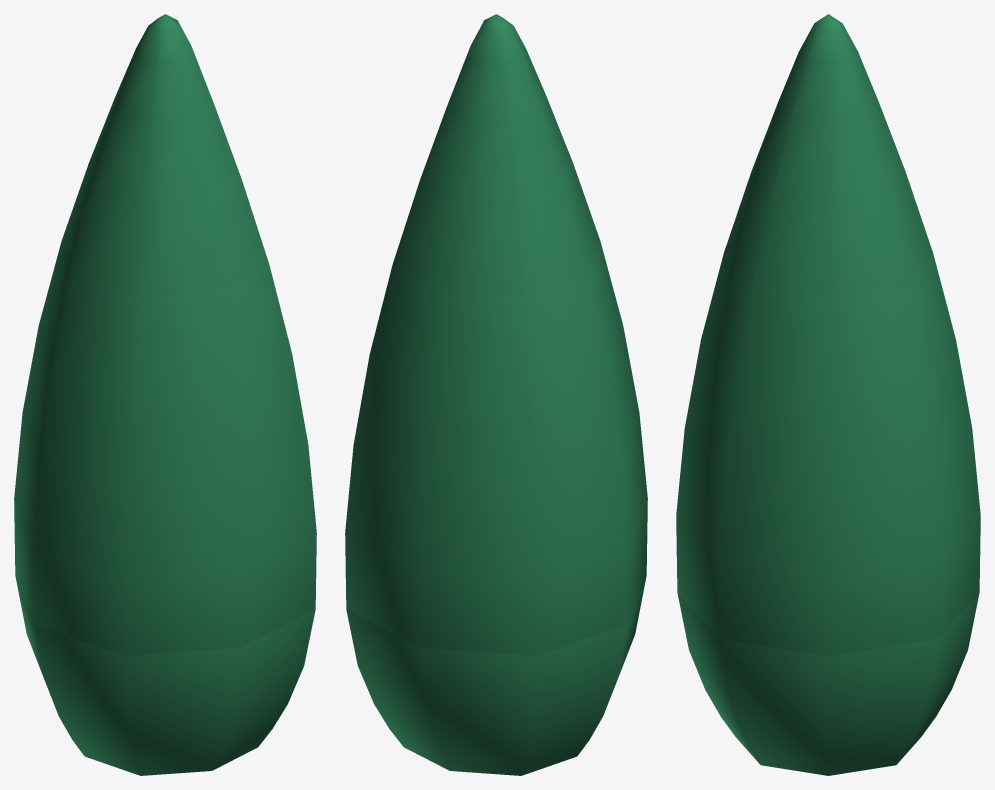
Rendered from ForestTree1.glb.
3 views of the same model, side by side, from view 1: azimuth 30°, elevation 25°; view 2: azimuth 150°, elevation 25°; view 3: azimuth 270°, elevation 25° (orthographic).
Parts seen in each view (by area): view 1: Cube.001; view 2: Cube.001; view 3: Cube.001.
Part boxes in pixels (box(x1,y1,x2,y2)): Cube.001: box(14, 14, 316, 775); Cube.001: box(345, 14, 647, 775); Cube.001: box(676, 14, 980, 775).
Size of the model in its own units: 2.29 by 6 by 2.29.
